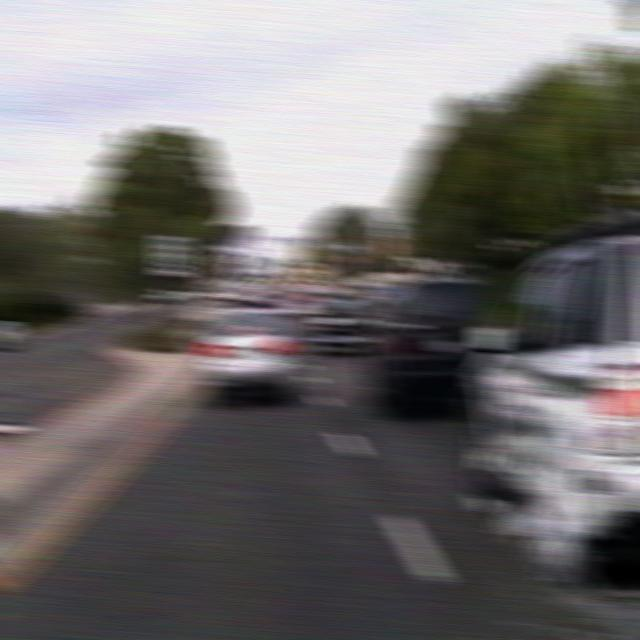speedLimit45: (154, 233, 189, 276)
